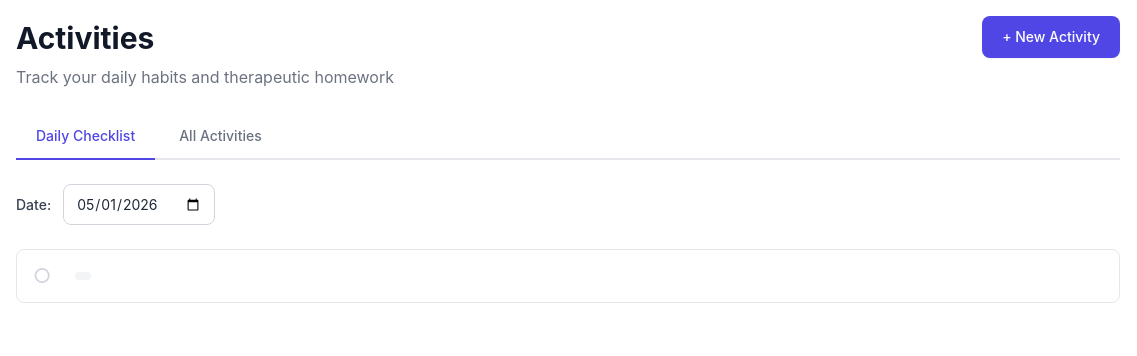
ActivitiesView › switches to activities tab
Click the button with class "tab" showing "All Activities". click: x=220, y=136
box: top-left (159, 113), bottom-right (282, 160)
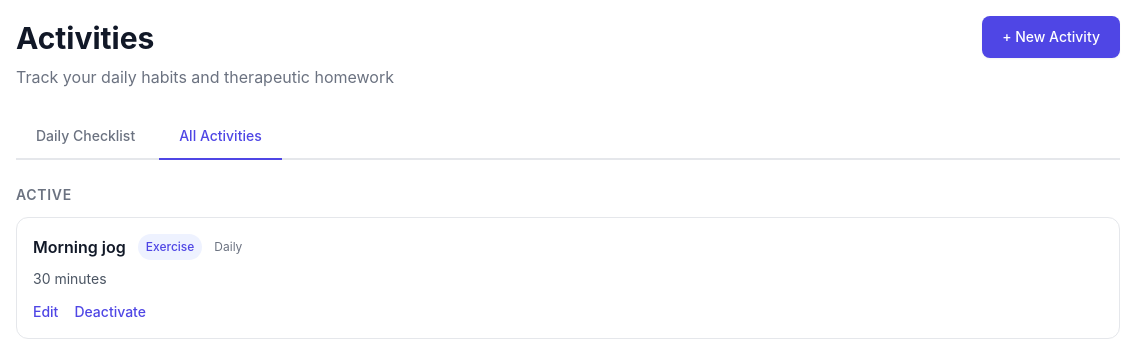
Expected: the element with class "activities-panel" is shown, top-left (16, 184), bottom-right (1120, 339)
